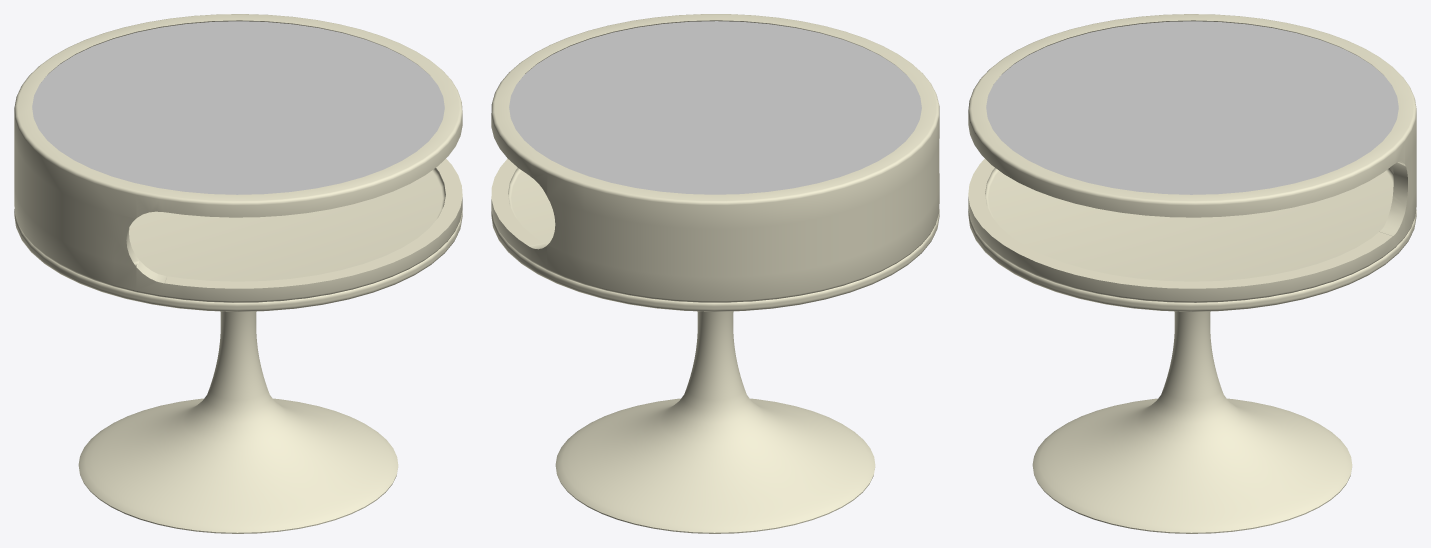
Rendered from SideTable.fbx.
The picture shows the model from 3 angles, left to right: view 1: azimuth 30°, elevation 25°; view 2: azimuth 150°, elevation 25°; view 3: azimuth 270°, elevation 25°; orthographic projection.
Visible parts, largest first — view 1: Body, GlassTop; view 2: Body, GlassTop; view 3: Body, GlassTop.
Part boxes in pixels (bbox=[...]): Body: bbox=[14, 14, 462, 533]; GlassTop: bbox=[32, 21, 444, 194]; Body: bbox=[491, 14, 939, 533]; GlassTop: bbox=[509, 21, 921, 194]; Body: bbox=[968, 14, 1416, 533]; GlassTop: bbox=[986, 21, 1398, 194].
Size of the model in its own units: 6.43 by 5.69 by 6.43.
